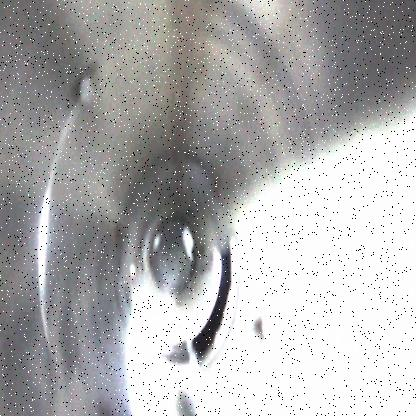Crack2: (192, 235, 236, 371)
